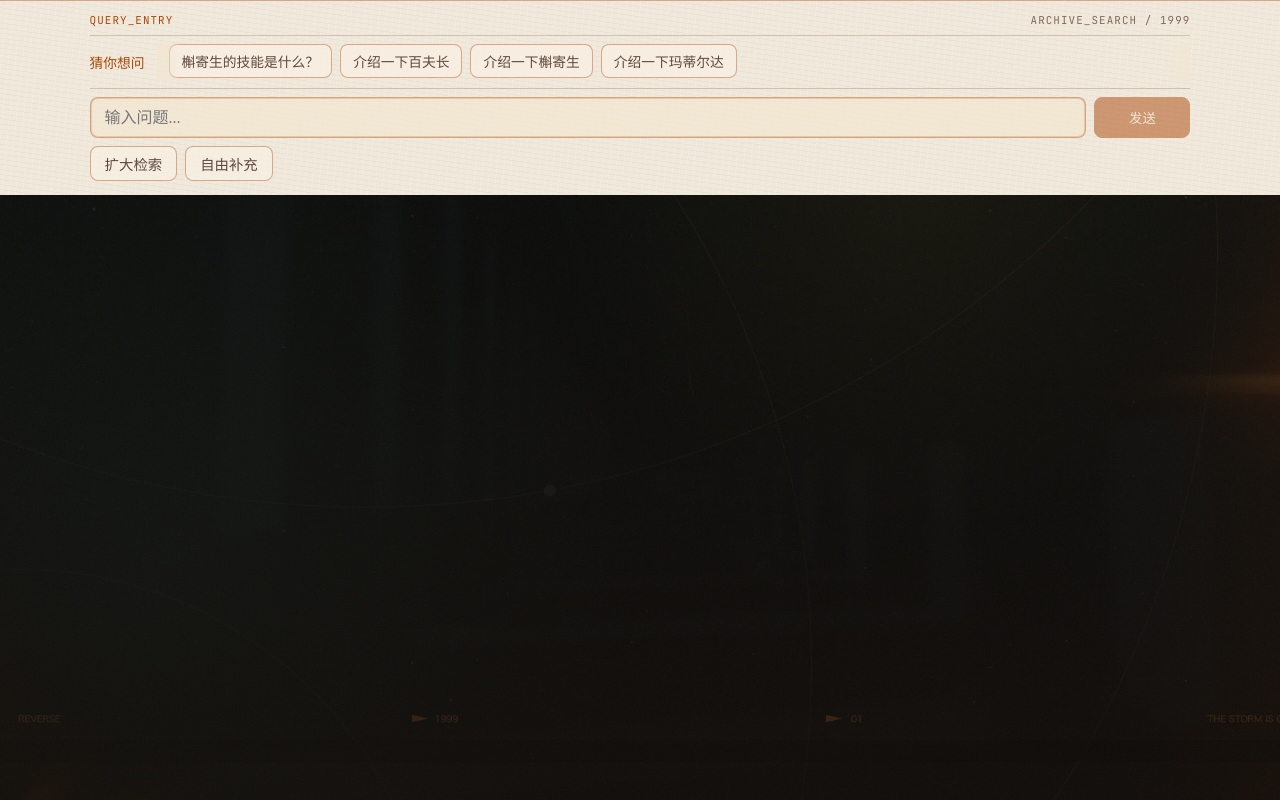
Test case: ChatInput suggested questions › replaces and focuses the draft without sending when a suggestion is selected
In the field with placeholder "输入问题...": (588,118) [90,97,1086,138], type "尚未发送的草稿"
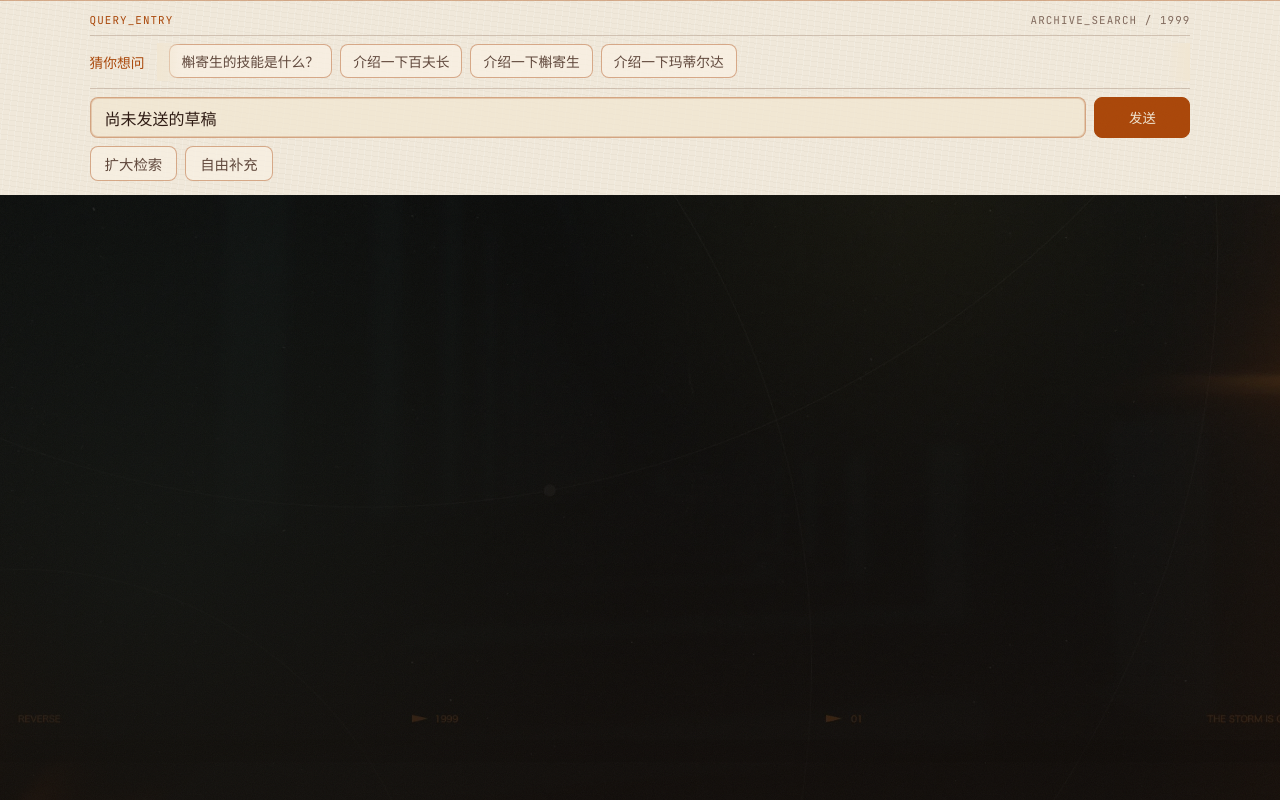
Click the button "槲寄生的技能是什么？": (250,61) [169,44,332,78]
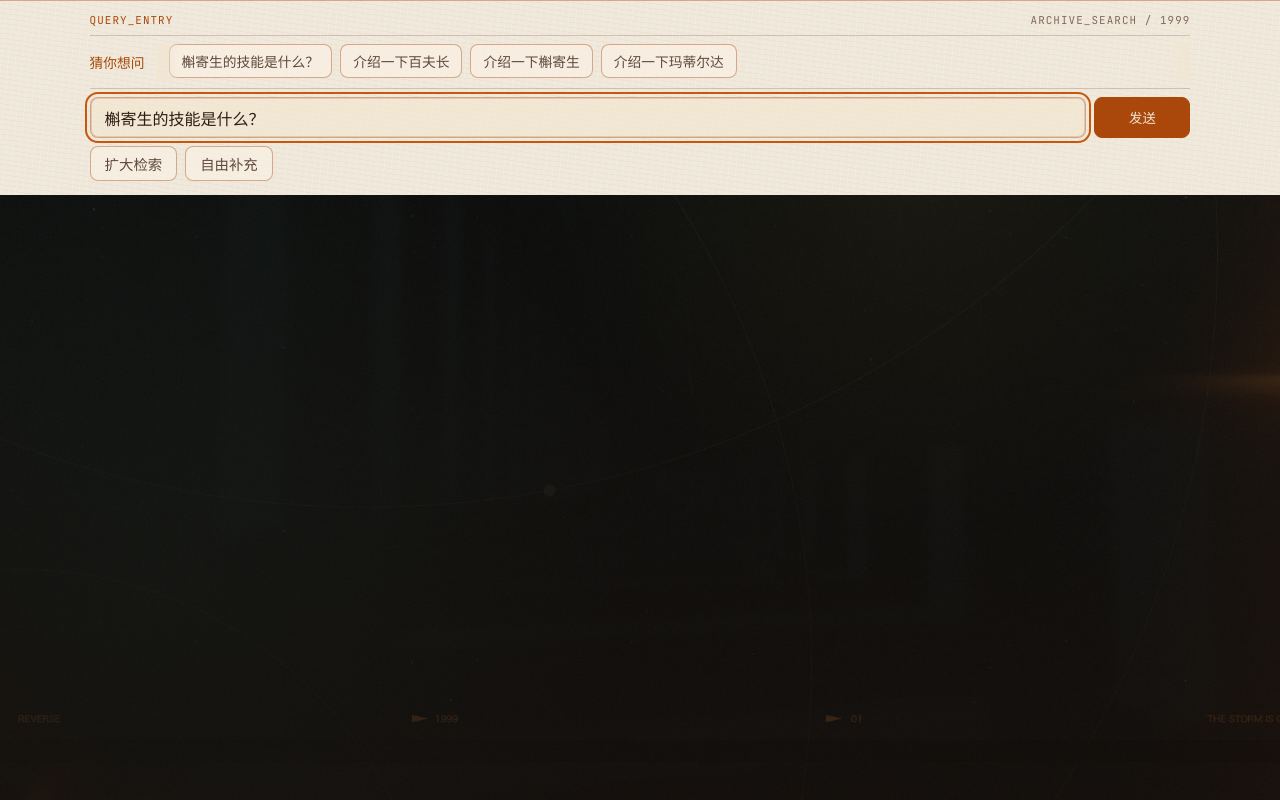
Now the field with placeholder "输入问题..." holds "槲寄生的技能是什么？", box [90,97,1086,138]
